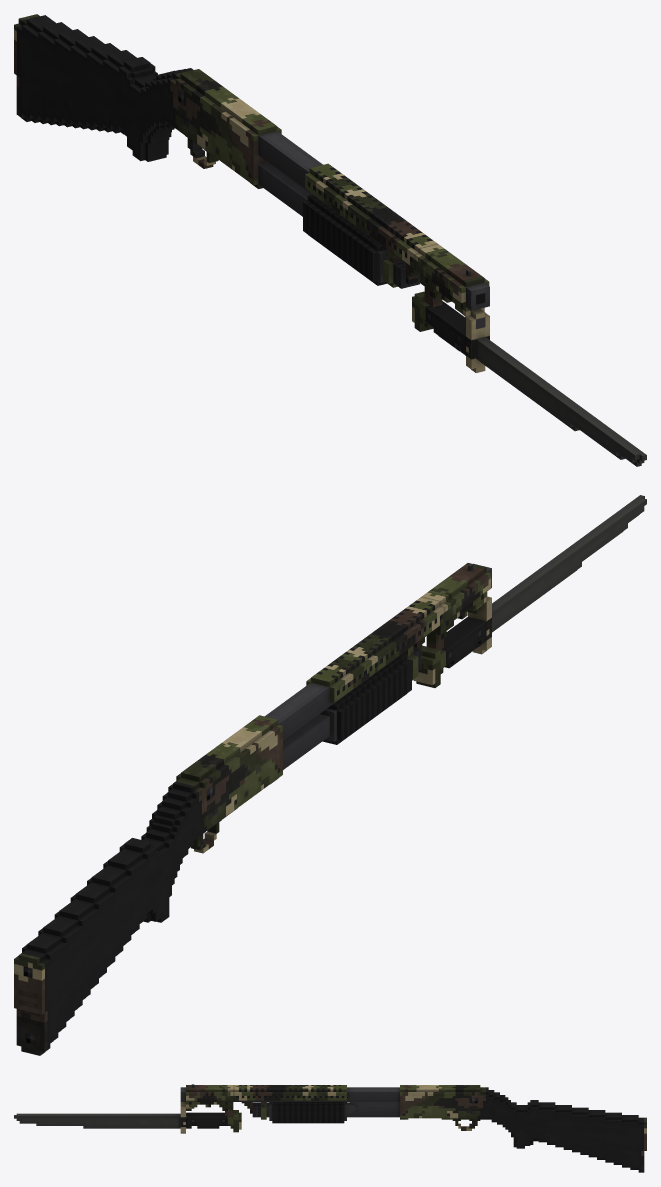
File: RD_ITHACA37_MILITARY1945.glb
The picture shows the model from 3 angles, top to bottom: view 1: azimuth 30°, elevation 25°; view 2: azimuth 150°, elevation 25°; view 3: azimuth 270°, elevation 25°; orthographic projection. The views are drawn at different scales.
Visible parts, largest first — view 1: ITHACA37, ITHACA37_KNIFE, ITHACA37_FOREND; view 2: ITHACA37, ITHACA37_KNIFE, ITHACA37_FOREND; view 3: ITHACA37, ITHACA37_KNIFE, ITHACA37_FOREND.
Part boxes in pixels (x1,y1,x2,y2): ITHACA37: [14, 14, 489, 328]; ITHACA37_KNIFE: [412, 291, 646, 466]; ITHACA37_FOREND: [303, 194, 387, 285]; ITHACA37: [14, 563, 491, 1055]; ITHACA37_KNIFE: [413, 495, 646, 687]; ITHACA37_FOREND: [320, 653, 411, 744]; ITHACA37: [180, 1084, 646, 1172]; ITHACA37_KNIFE: [14, 1102, 241, 1133]; ITHACA37_FOREND: [269, 1102, 399, 1123].
Bounding box in the file's own units: 0.0787 × 0.3346 × 2.24.
Materials: 1 (1 with a texture image).
